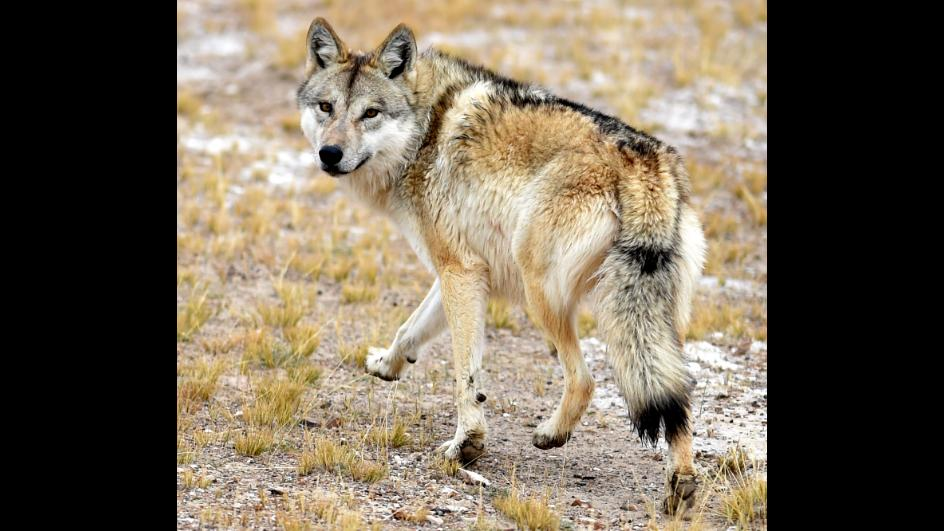Wolf: (297, 11, 711, 517)
